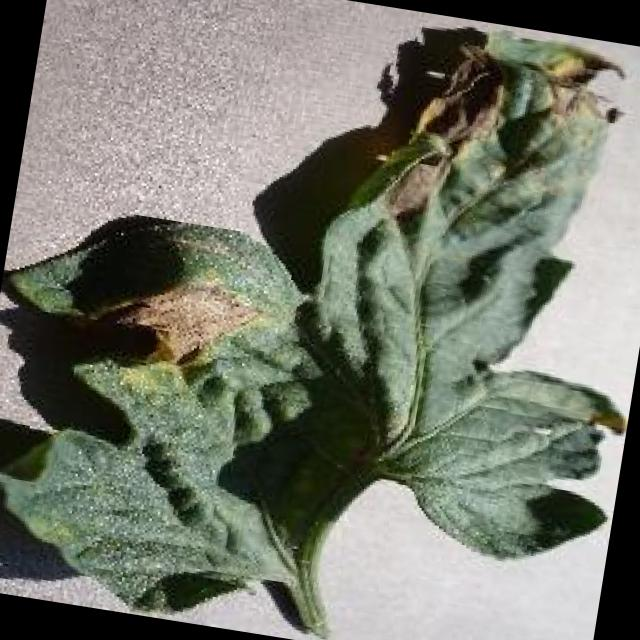Tomato_Early_Blight: (0, 155, 299, 505), (360, 12, 640, 260)
